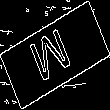M_SE: (30, 23, 80, 87)
